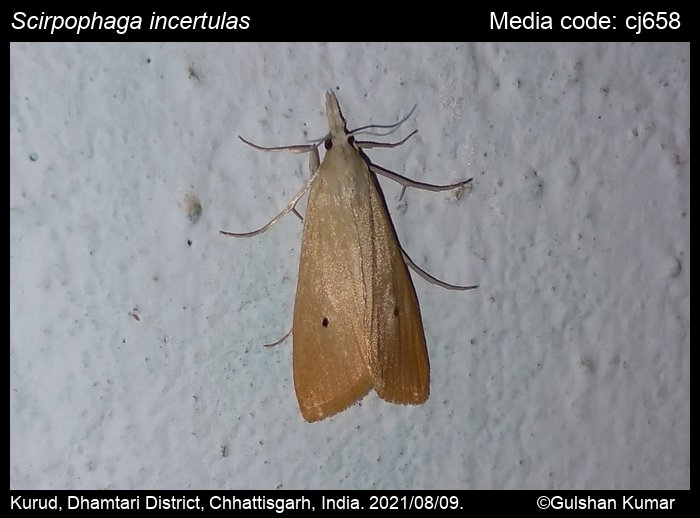Crambidae: (216, 90, 477, 426)
